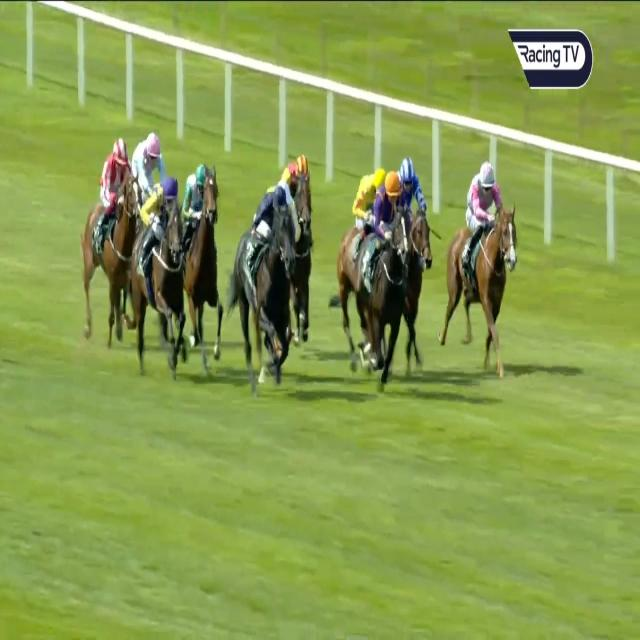horses-racing: (447, 163, 522, 374), (84, 140, 140, 320), (238, 188, 291, 378), (363, 176, 410, 378), (395, 155, 434, 371), (282, 152, 324, 346), (136, 178, 181, 350), (182, 163, 220, 360), (342, 170, 395, 245), (132, 128, 164, 191)
